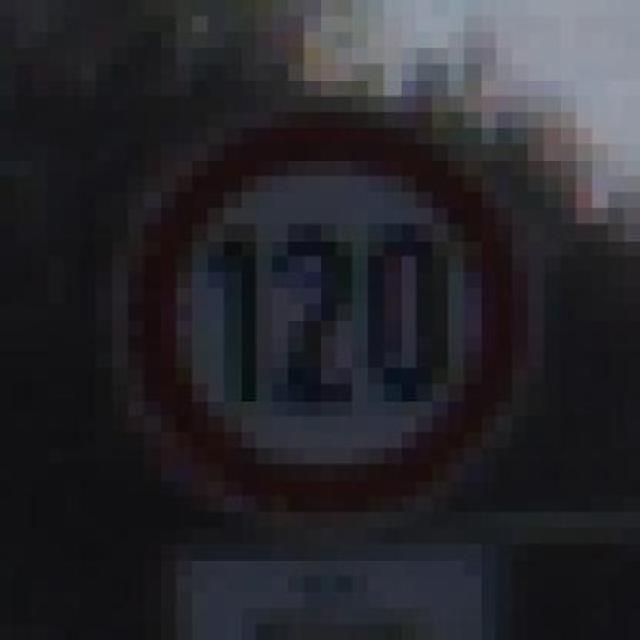forb_speed_over_120: (132, 114, 529, 525)
